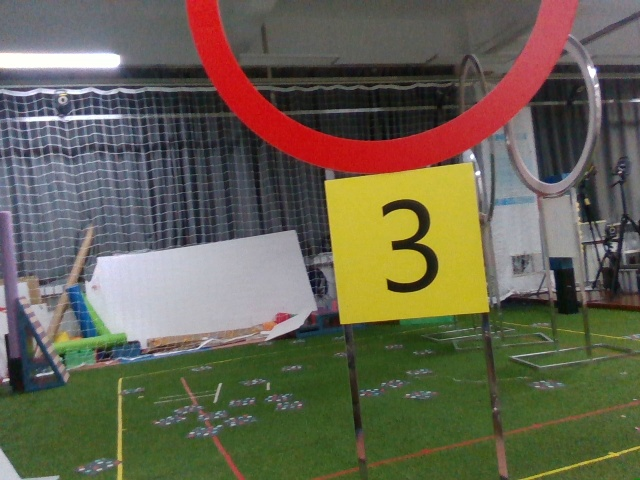target: (335, 185, 479, 314)
